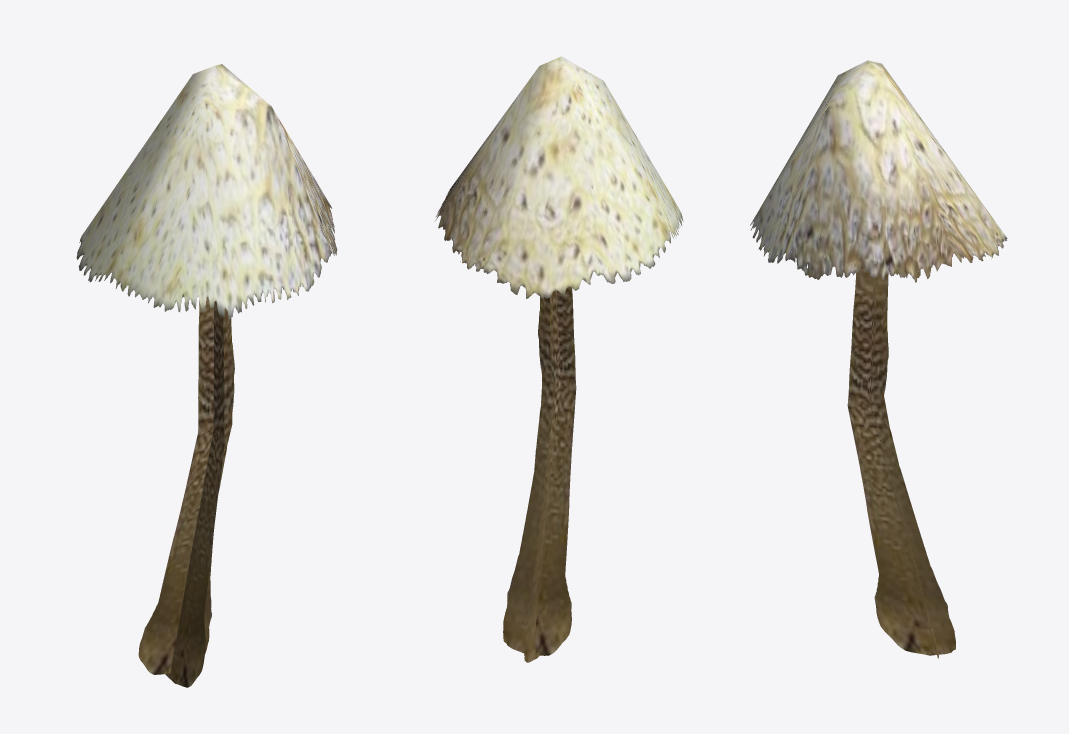
Rendered from Mushroom_01_b.fbx.
3 views of the same model, side by side, from view 1: azimuth 30°, elevation 25°; view 2: azimuth 150°, elevation 25°; view 3: azimuth 270°, elevation 25° (orthographic). The views are drawn at different scales.
Parts seen in each view (by area): view 1: mushroom_01_b; view 2: mushroom_01_b; view 3: mushroom_01_b.
Boxes of the visible parts, <box> form: mushroom_01_b: <box>76,64,337,687</box>; mushroom_01_b: <box>435,56,683,662</box>; mushroom_01_b: <box>750,60,1007,658</box>.
Bounding box in the file's own units: 0.1708 × 0.4497 × 0.1912.
